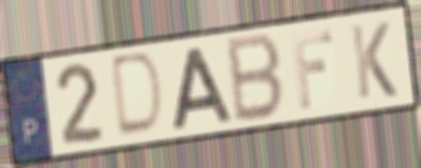2: (54, 60, 108, 149)
A: (170, 45, 235, 132)
B: (225, 31, 287, 126)
D: (111, 49, 167, 141)
F: (288, 27, 336, 112)
K: (347, 19, 400, 102)
